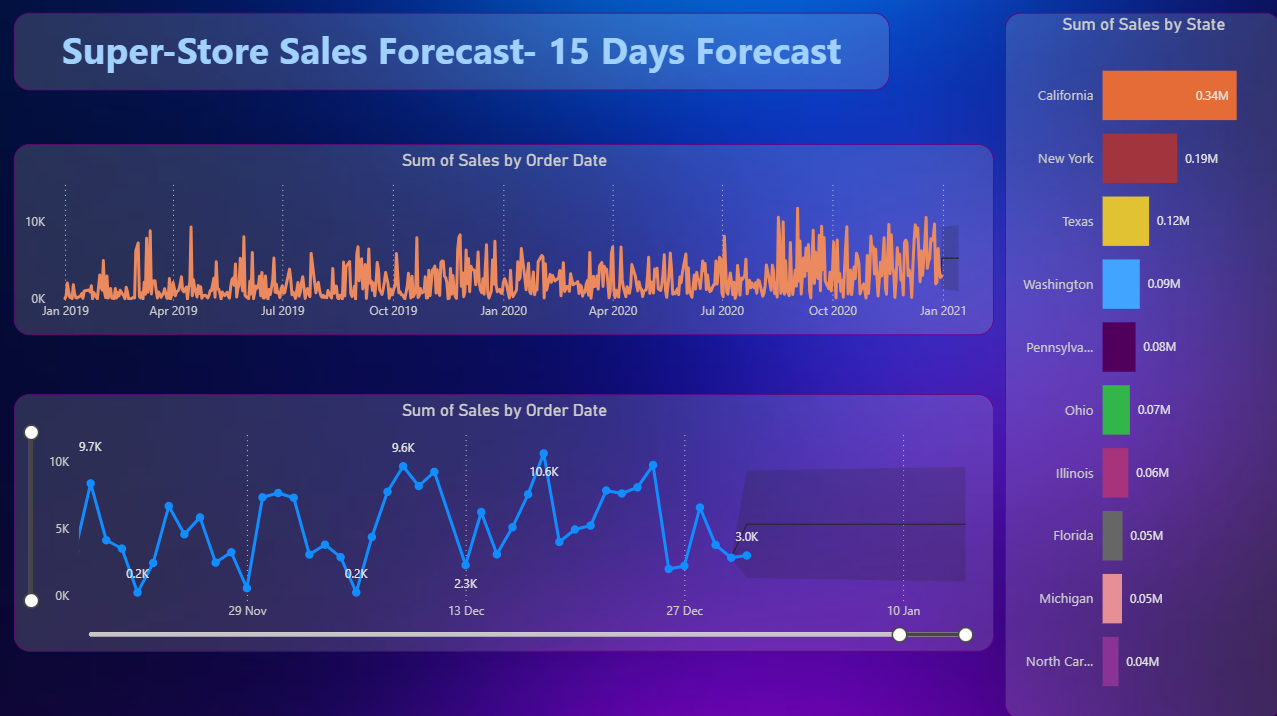

Layout of this report page (visuals, bound fields, positions):
{"tool":"powerbi","page":{"name":"Page 2","canvas":[1280,720],"ordinal":1},"visuals":[{"type":"lineChart","fields":{"Y":["Sum(SuperStore Sales DataSet.Sales)"],"Category":["SuperStore Sales DataSet.Order Date"]},"box":[13.8,145,980,191.2],"z":0},{"type":"lineChart","fields":{"Y":["Sum(SuperStore Sales DataSet.Sales)"],"Category":["SuperStore Sales DataSet.Order Date"]},"box":[13.8,395,980,257.5],"z":1000},{"type":"textbox","box":[13.8,13.8,876.2,77.5],"z":1001},{"type":"clusteredBarChart","fields":{"Category":["SuperStore Sales DataSet.State"],"Y":["Sum(SuperStore Sales DataSet.Sales)"]},"box":[1004.8,14.3,276,706],"z":1002}]}

Visuals, with their boxes in screenshot pixels (x1, y1, x2, y2), scaled from the page's 1280x720 canvas onto the 1277x716 screenshot:
lineChart - Sum(SuperStore Sales DataSet.Sales) x SuperStore Sales DataSet.Order Date: select_region(14, 144, 991, 334)
lineChart - Sum(SuperStore Sales DataSet.Sales) x SuperStore Sales DataSet.Order Date: select_region(14, 393, 991, 649)
textbox: select_region(14, 14, 888, 91)
clusteredBarChart - SuperStore Sales DataSet.State x Sum(SuperStore Sales DataSet.Sales): select_region(1002, 14, 1276, 715)
